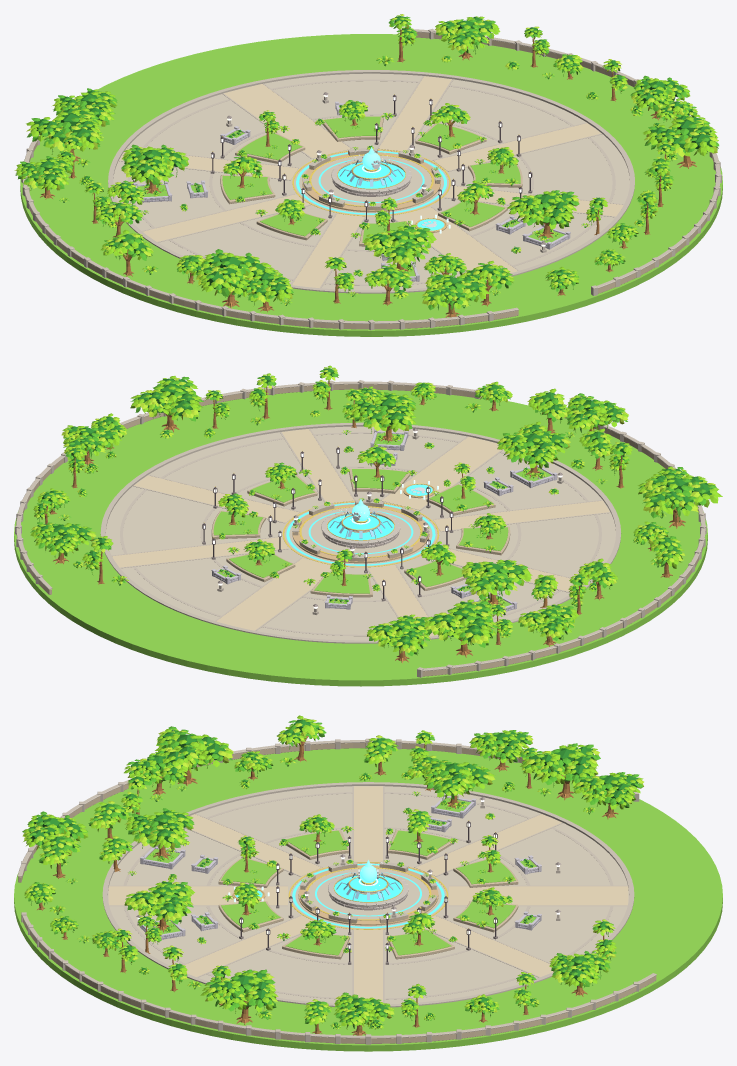
The model's file is TowerOfPets_Plaza.fbx.
3 views of the same model, one above another, from view 1: azimuth 30°, elevation 25°; view 2: azimuth 150°, elevation 25°; view 3: azimuth 270°, elevation 25° (orthographic). The views are drawn at different scales.
Parts seen in each view (by area): view 1: Plaza_Floor__Grass, Plaza_Floor__Plaza_Tile, Plaza_Paths__Plaza_Path, Plaza_Floor__Stone_Trim, Plaza_Gardens_Inner_Grass__Grass, Island_Balustrade__Stone_Trim, Island_Balustrade__Hub_Stone, Plaza_Gardens_Inner__Hub_Stone, Plaza_Paths__Stone_Trim, Spawn_Platform__Plaza_Tile, Fountain_Water__Water, Tree_Rim_20__Leaves_Light (+31 smaller); view 2: Plaza_Floor__Grass, Plaza_Floor__Plaza_Tile, Plaza_Paths__Plaza_Path, Plaza_Floor__Stone_Trim, Plaza_Gardens_Inner_Grass__Grass, Island_Balustrade__Stone_Trim, Island_Balustrade__Hub_Stone, Plaza_Gardens_Inner__Hub_Stone, Plaza_Paths__Stone_Trim, Spawn_Platform__Plaza_Tile, Tree_Rim_20__Leaves_Light, Tree_Rim_13__Leaves_Light (+28 smaller); view 3: Plaza_Floor__Grass, Plaza_Floor__Plaza_Tile, Plaza_Paths__Plaza_Path, Plaza_Gardens_Inner_Grass__Grass, Plaza_Floor__Stone_Trim, Island_Balustrade__Stone_Trim, Island_Balustrade__Hub_Stone, Plaza_Paths__Stone_Trim, Plaza_Gardens_Inner__Hub_Stone, Spawn_Platform__Plaza_Tile, Tree_Rim_20__Leaves_Light, Tree_Rim_13__Leaves_Light (+29 smaller).
Part boxes in pixels (left/top/right/bottom): Plaza_Floor__Grass: left=20, top=34, right=722, bottom=336; Plaza_Floor__Plaza_Tile: left=113, top=73, right=629, bottom=290; Plaza_Paths__Plaza_Path: left=119, top=76, right=623, bottom=288; Plaza_Floor__Stone_Trim: left=108, top=70, right=634, bottom=293; Plaza_Gardens_Inner_Grass__Grass: left=222, top=116, right=520, bottom=242; Island_Balustrade__Stone_Trim: left=21, top=28, right=721, bottom=330; Island_Balustrade__Hub_Stone: left=25, top=32, right=718, bottom=329; Plaza_Gardens_Inner__Hub_Stone: left=220, top=116, right=522, bottom=246; Plaza_Paths__Stone_Trim: left=119, top=76, right=623, bottom=288; Spawn_Platform__Plaza_Tile: left=311, top=155, right=431, bottom=206; Fountain_Water__Water: left=337, top=162, right=405, bottom=188; Tree_Rim_20__Leaves_Light: left=196, top=252, right=273, bottom=296; Plaza_Floor__Grass: left=14, top=389, right=707, bottom=686; Plaza_Floor__Plaza_Tile: left=106, top=426, right=615, bottom=640; Plaza_Paths__Plaza_Path: left=112, top=429, right=609, bottom=636; Plaza_Floor__Stone_Trim: left=100, top=422, right=621, bottom=643; Plaza_Gardens_Inner_Grass__Grass: left=213, top=469, right=508, bottom=593; Island_Balustrade__Stone_Trim: left=15, top=380, right=706, bottom=677; Island_Balustrade__Hub_Stone: left=18, top=384, right=703, bottom=676; Plaza_Gardens_Inner__Hub_Stone: left=211, top=468, right=510, bottom=597; Plaza_Paths__Stone_Trim: left=111, top=428, right=610, bottom=630; Spawn_Platform__Plaza_Tile: left=301, top=507, right=420, bottom=558; Tree_Rim_20__Leaves_Light: left=645, top=474, right=722, bottom=523; Tree_Rim_13__Leaves_Light: left=423, top=599, right=496, bottom=644; Plaza_Floor__Grass: left=14, top=748, right=722, bottom=1051; Plaza_Floor__Plaza_Tile: left=108, top=786, right=628, bottom=1004; Plaza_Paths__Plaza_Path: left=108, top=786, right=628, bottom=1002; Plaza_Gardens_Inner_Grass__Grass: left=221, top=830, right=515, bottom=955; Plaza_Floor__Stone_Trim: left=102, top=782, right=634, bottom=1007; Island_Balustrade__Stone_Trim: left=17, top=738, right=656, bottom=1044; Island_Balustrade__Hub_Stone: left=18, top=742, right=656, bottom=1043; Plaza_Paths__Stone_Trim: left=109, top=786, right=627, bottom=1003; Plaza_Gardens_Inner__Hub_Stone: left=218, top=830, right=518, bottom=959; Spawn_Platform__Plaza_Tile: left=308, top=868, right=429, bottom=920; Tree_Rim_20__Leaves_Light: left=155, top=729, right=233, bottom=772; Tree_Rim_13__Leaves_Light: left=520, top=744, right=598, bottom=788.
Bounding box in the file's own units: 34661 × 2977 × 34400.
